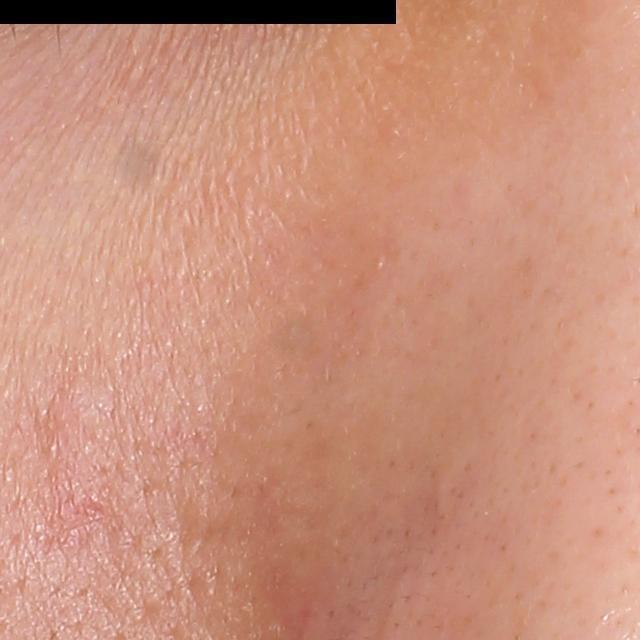other: (107, 132, 172, 200)
